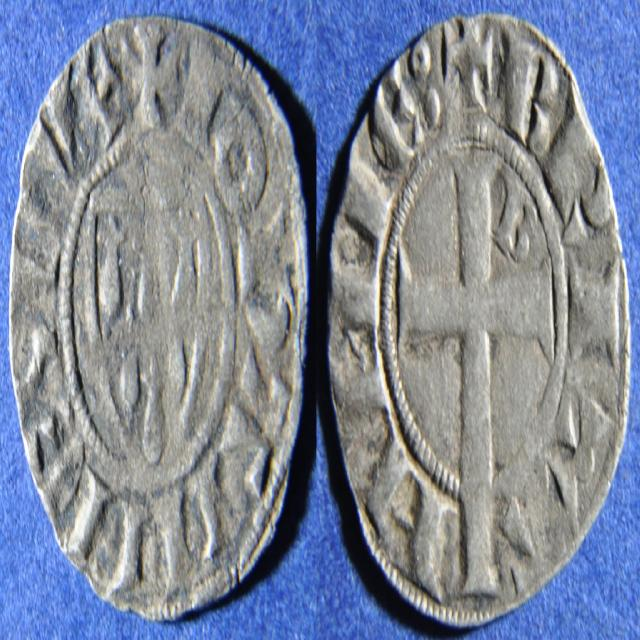Coin: (324, 11, 632, 629), (6, 10, 309, 613)
